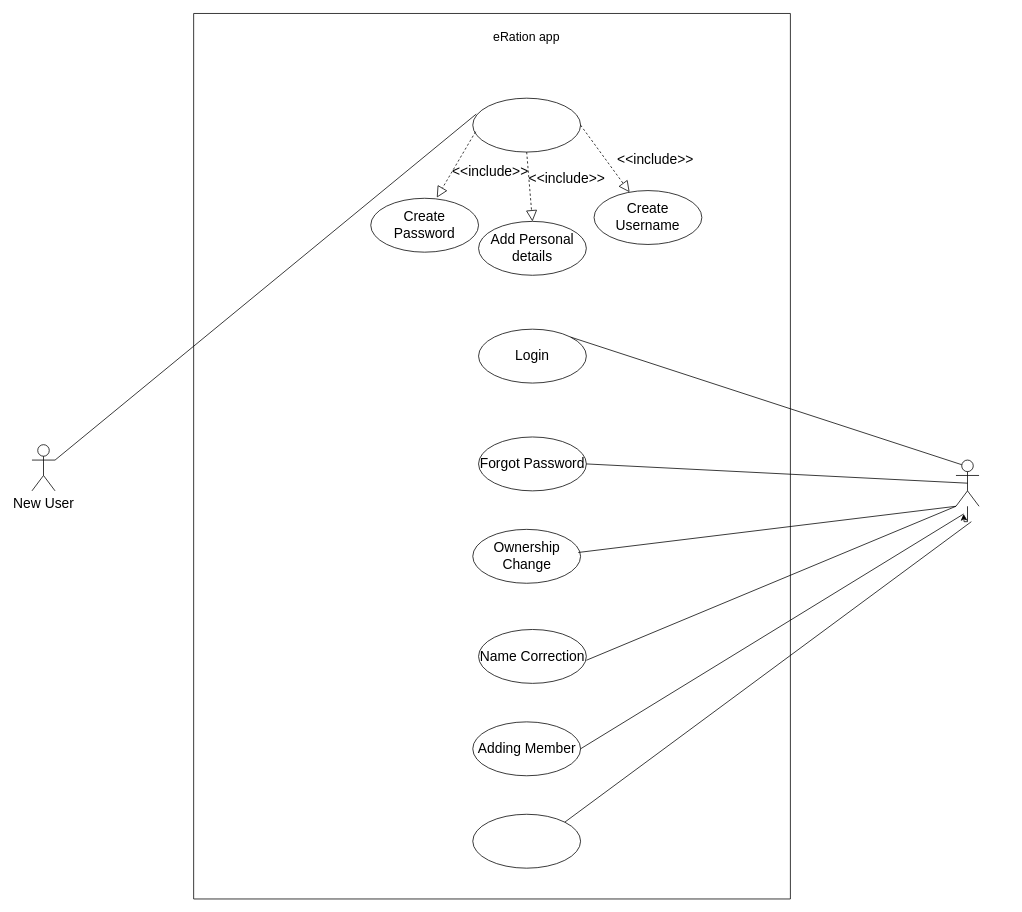
Image size: 1022x912. Some labels were removed from this diagram. The shapes that lost their labels are listed below. From the top down, each one's box as (x1, y1, x2, y2) in pixels, then its label:
(472, 97, 581, 152): Create Account
(955, 459, 979, 506): Existing User
(472, 814, 581, 868): Removing Member
